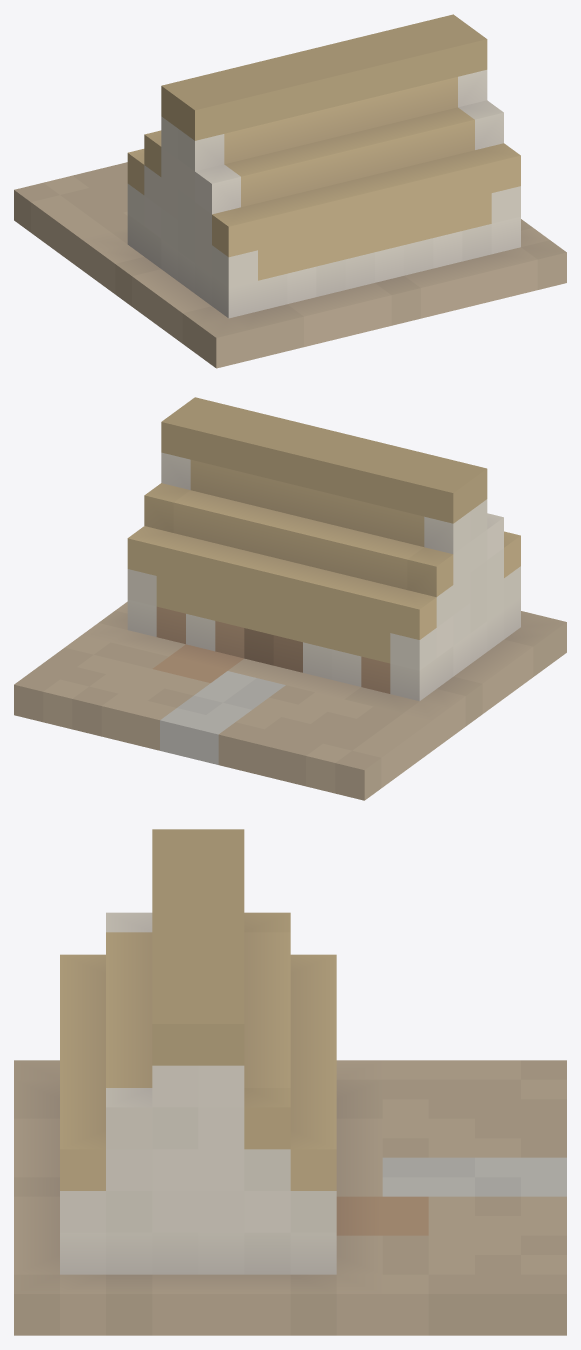
The model's file is warehouse.l1.lite.glb.
3 views of the same model, one above another, from view 1: azimuth 30°, elevation 25°; view 2: azimuth 150°, elevation 25°; view 3: azimuth 270°, elevation 25° (orthographic). The views are drawn at different scales.
Visible parts, largest first — view 1: warehouse; view 2: warehouse; view 3: warehouse.
Boxes of the visible parts, <box> form: warehouse: <box>14,14,566,368</box>; warehouse: <box>14,397,566,800</box>; warehouse: <box>14,829,566,1335</box>.
Size of the model in its own units: 6 by 3.5 by 6.
